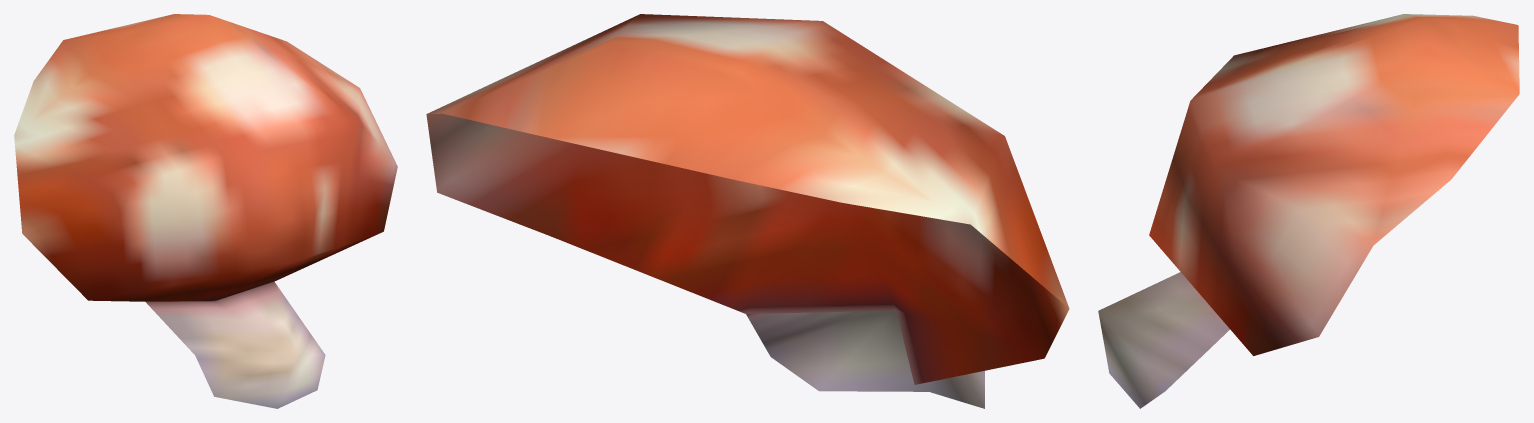
File: fg_mush5_out.dae
The picture shows the model from 3 angles, left to right: view 1: azimuth 30°, elevation 25°; view 2: azimuth 150°, elevation 25°; view 3: azimuth 270°, elevation 25°; orthographic projection. The views are drawn at different scales.
Parts seen in each view (by area): view 1: fg_mush5_out; view 2: fg_mush5_out; view 3: fg_mush5_out.
Part boxes in pixels (bbox=[...]): fg_mush5_out: bbox=[14, 14, 397, 408]; fg_mush5_out: bbox=[426, 14, 1069, 408]; fg_mush5_out: bbox=[1098, 14, 1519, 408].
Bounding box in the file's own units: 12.06 × 8.87 × 9.54.
1 material, 1 textured.
